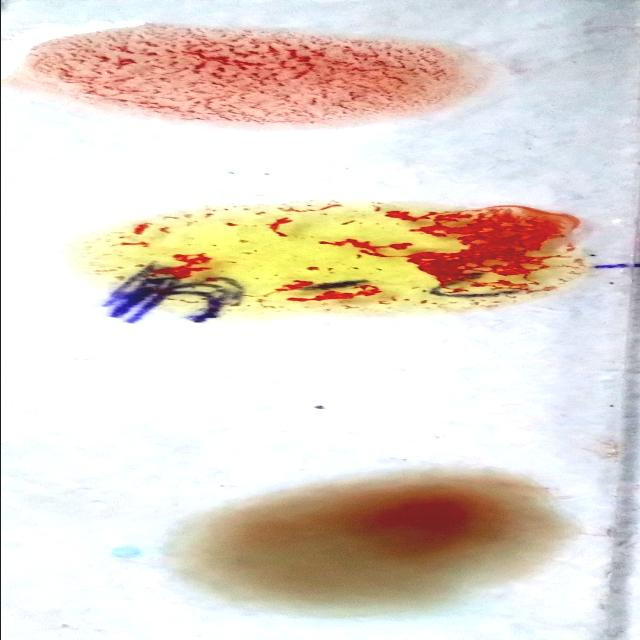B: (90, 206, 592, 304)
D: (46, 32, 466, 118)
